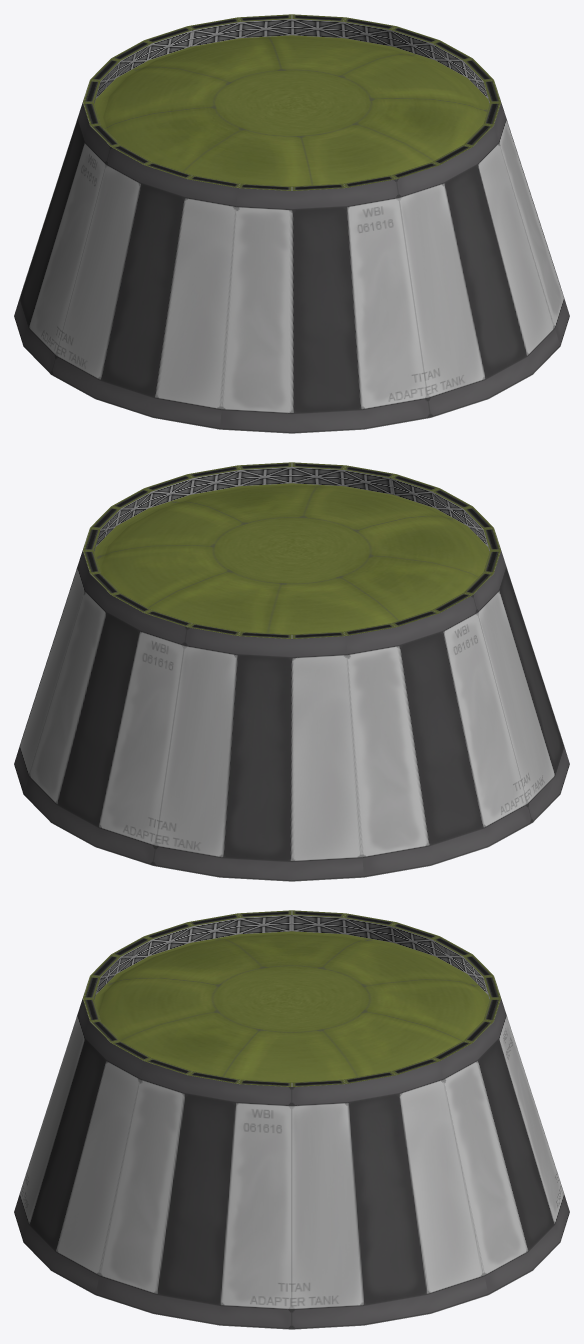
The model's file is TitanAdapterTank.FBX.
3 views of the same model, one above another, from view 1: azimuth 30°, elevation 25°; view 2: azimuth 150°, elevation 25°; view 3: azimuth 270°, elevation 25° (orthographic).
Parts seen in each view (by area): view 1: MainBody, EndCap003; view 2: MainBody, EndCap003; view 3: MainBody, EndCap003.
Part boxes in pixels (x1,y1,x2,y2): MainBody: (14,14,569,433); EndCap003: (94,35,489,186); MainBody: (14,462,569,881); EndCap003: (94,483,489,634); MainBody: (14,910,569,1329); EndCap003: (94,931,489,1082).
Size of what is drawn, in the model's own units: 2.49 by 1.06 by 2.49.
